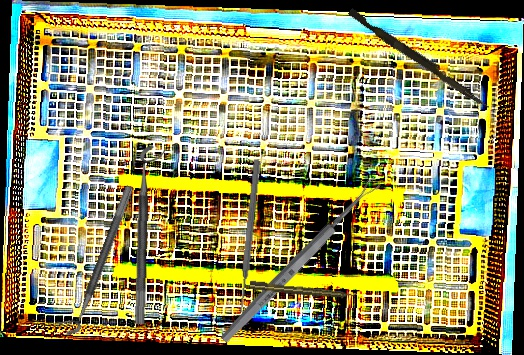Fixation Ring: (55, 179, 135, 340), (133, 145, 167, 325)
Handpiece: (249, 279, 357, 302)
Pusher: (345, 7, 494, 111), (236, 159, 262, 313)
Surgical Spoon: (218, 175, 383, 346)
